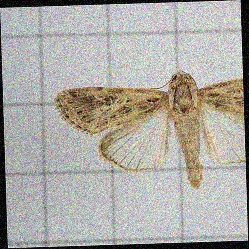Spodoptera litura: (54, 70, 245, 192)
